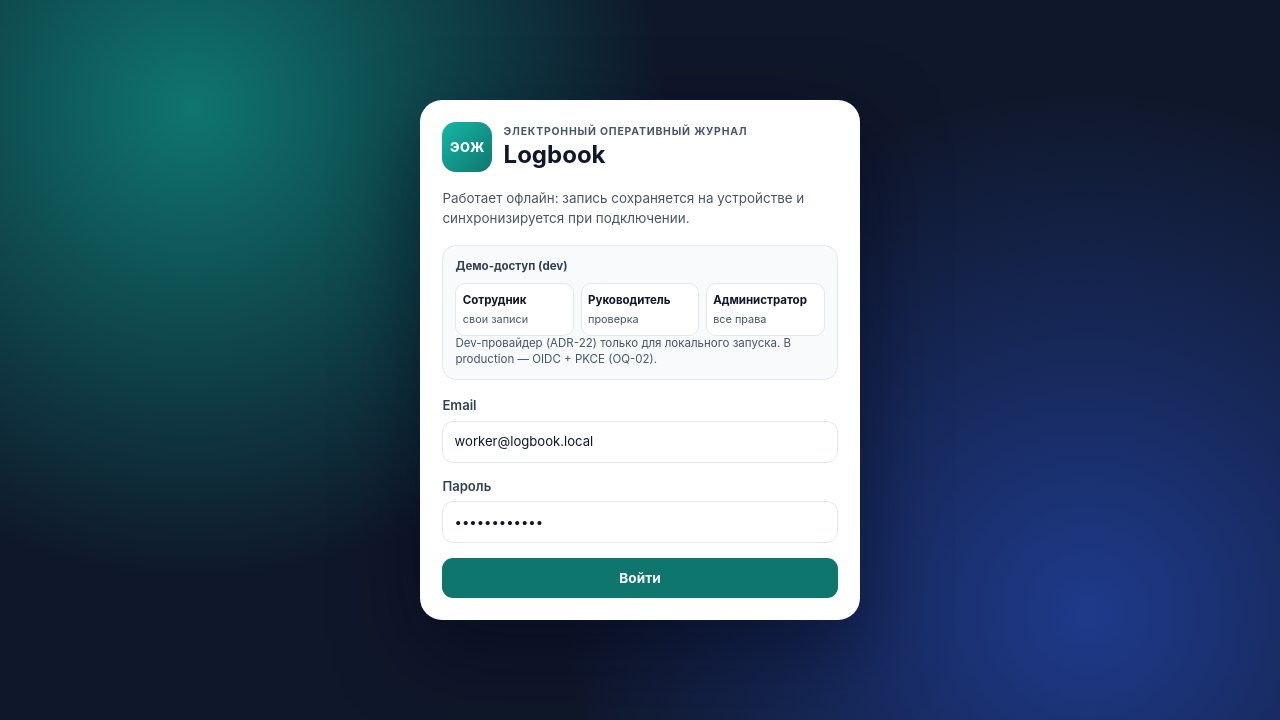
Test: LoginScreen › logs in through a quick dev role and navigates to the journal
Click the button "Сотрудник свои записи" at point(515, 309), box [455, 283, 574, 336]
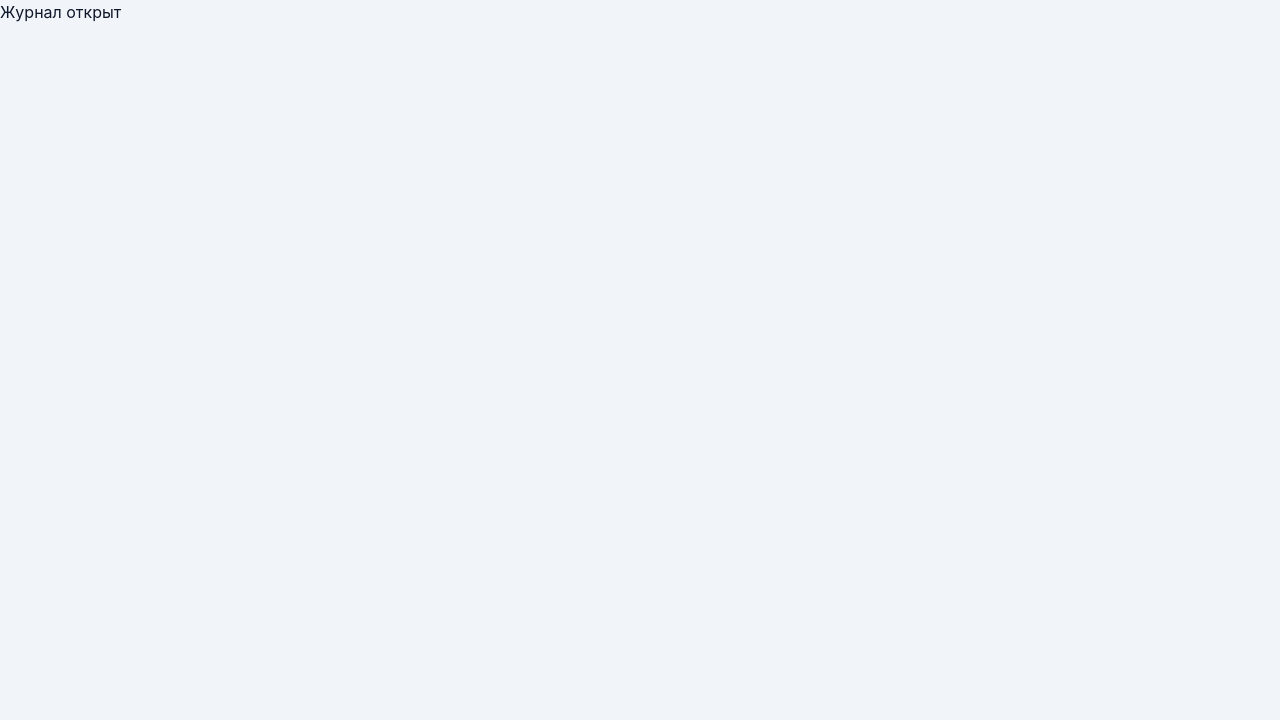
Now the text "Журнал открыт" is shown, box [0, 2, 121, 22]
